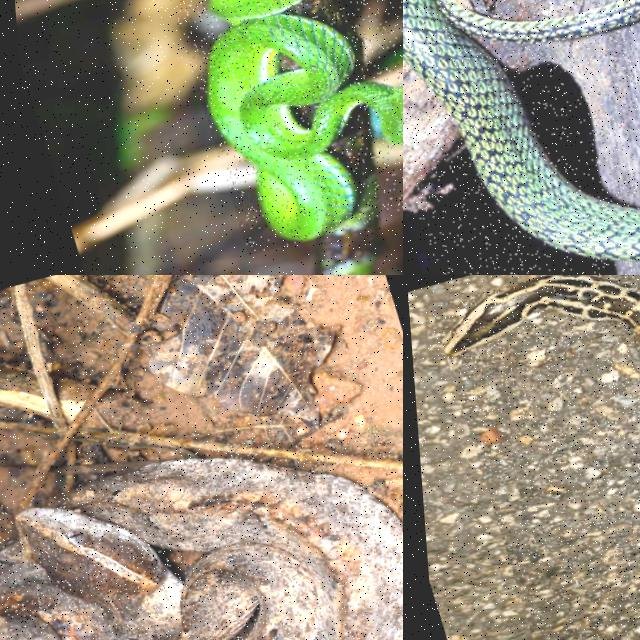Calloselasma rhodostoma: (0, 459, 402, 639)
Chrysopelea ornata: (403, 0, 639, 260)
Python bivittatus: (445, 275, 639, 355)
Trimeresurus: (208, 0, 402, 240)
